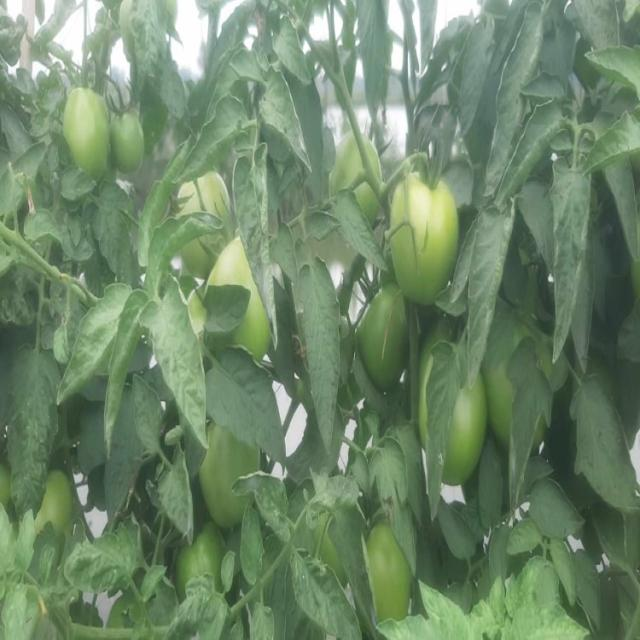tomato: (477, 304, 559, 452), (389, 163, 472, 305), (419, 337, 489, 497), (206, 229, 278, 355), (194, 421, 275, 522), (174, 157, 242, 266), (358, 280, 423, 390), (328, 127, 396, 231), (65, 79, 123, 177), (369, 508, 418, 624), (178, 501, 230, 596), (28, 462, 85, 535), (306, 495, 349, 579), (112, 102, 152, 179), (1, 461, 22, 512)
